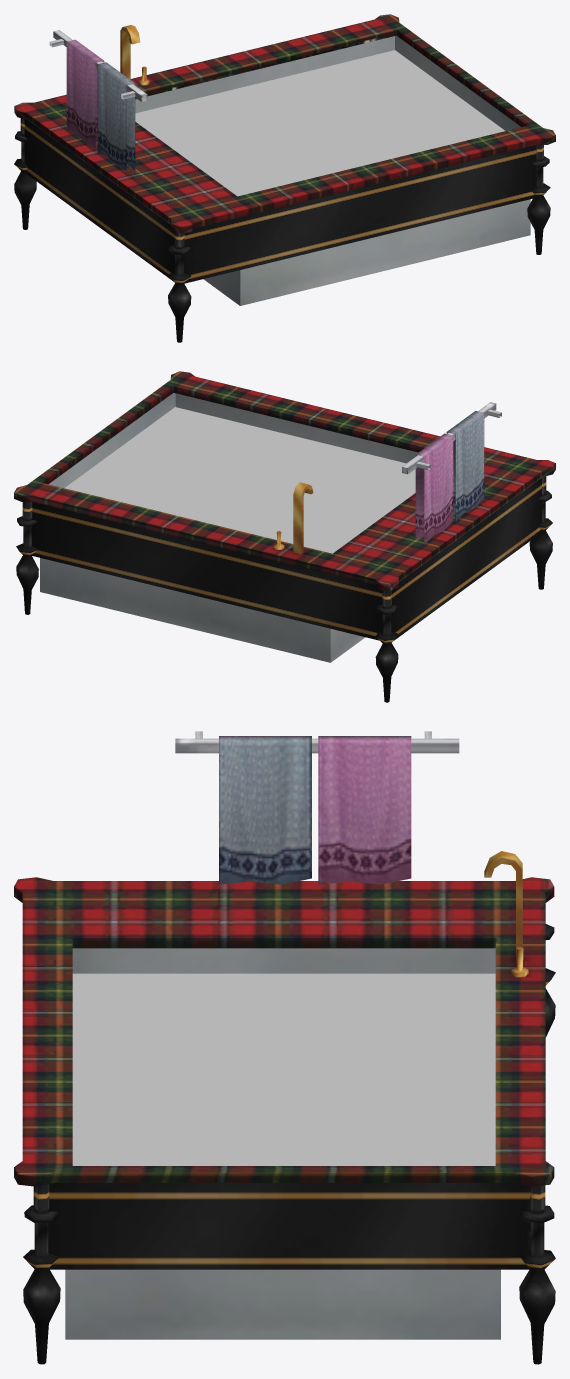
File: furni_0200325.FBX
3 renders of one model, top to bottom at view 1: azimuth 30°, elevation 25°; view 2: azimuth 150°, elevation 25°; view 3: azimuth 270°, elevation 25°, orthographic. The views are drawn at different scales.
Visible parts, largest first — view 1: furni_0200325; view 2: furni_0200325; view 3: furni_0200325.
Part boxes in pixels (x1=…): furni_0200325: x1=14, y1=14, x2=555, y2=342; furni_0200325: x1=14, y1=371, x2=555, y2=702; furni_0200325: x1=14, y1=731, x2=555, y2=1364.
Bounding box in the file's own units: 160 × 86.2 × 122.
